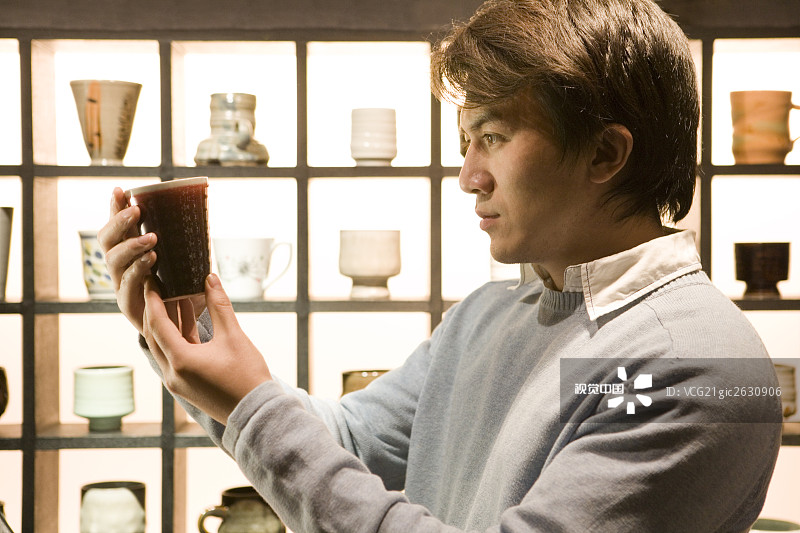no-phone: (134, 269, 282, 432), (98, 178, 209, 342)
